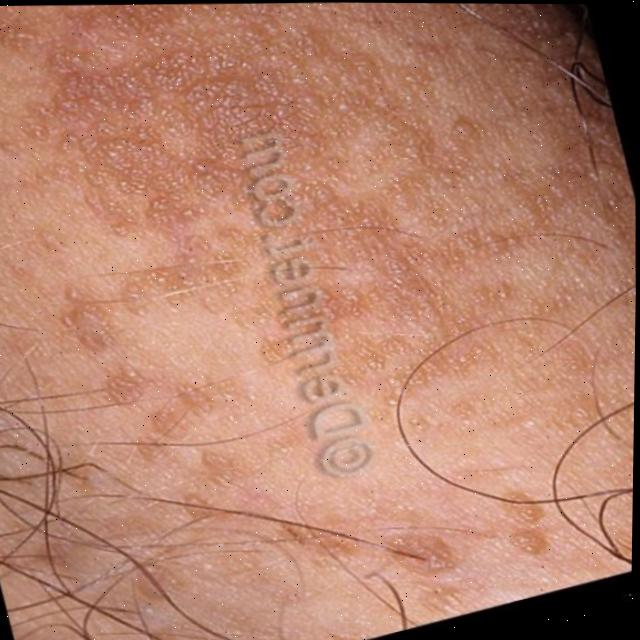Shingles: (56, 0, 571, 582)
